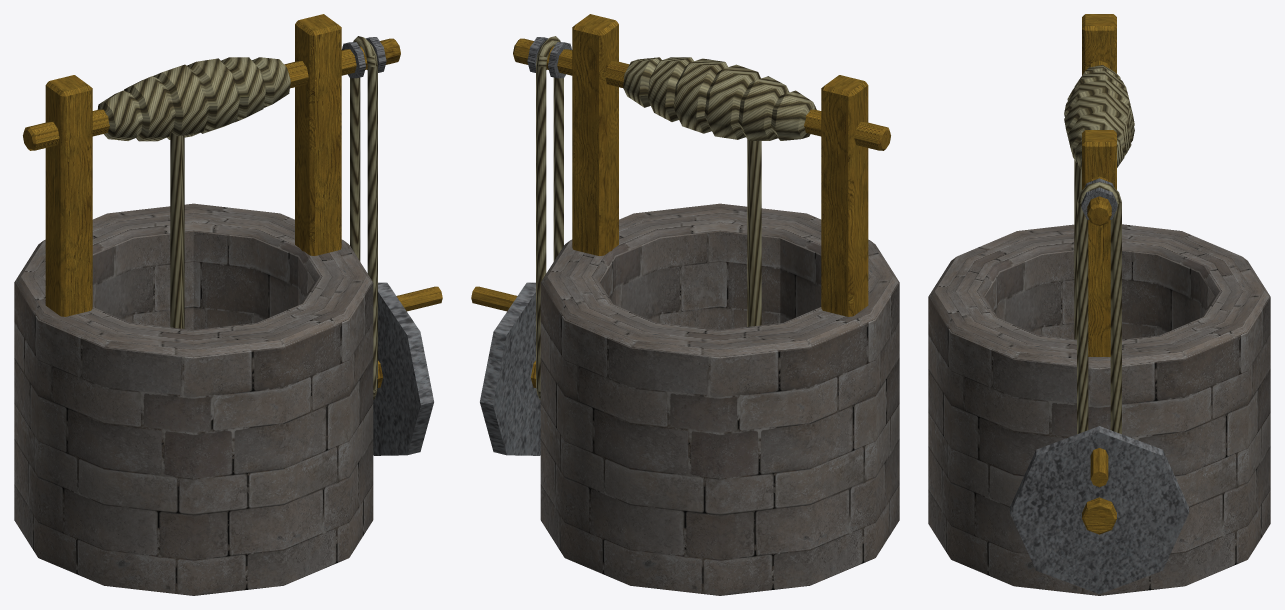
The model's file is Well.fbx.
The picture shows the model from 3 angles, left to right: view 1: azimuth 30°, elevation 25°; view 2: azimuth 150°, elevation 25°; view 3: azimuth 270°, elevation 25°; orthographic projection. The views are drawn at different scales.
Visible parts, largest first — view 1: Well; view 2: Well; view 3: Well.
Boxes of the visible parts, left/top/right/bottom form: Well: left=14, top=14, right=442, bottom=595; Well: left=471, top=14, right=899, bottom=595; Well: left=928, top=14, right=1270, bottom=595.
Size of the model in its own units: 8.16 by 8.88 by 6.19.
